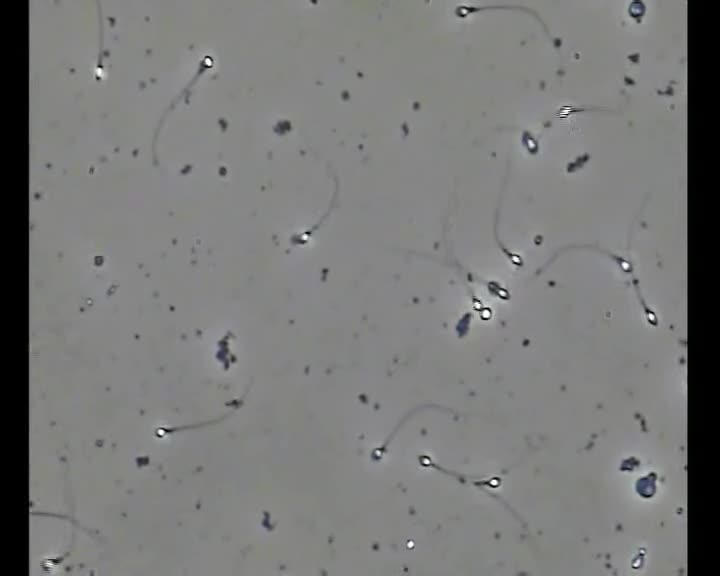spermhead: (635, 472, 657, 498), (487, 280, 509, 300), (521, 131, 538, 154), (628, 0, 646, 21), (456, 312, 471, 337), (556, 104, 582, 118), (619, 455, 640, 471), (631, 547, 646, 569), (291, 229, 311, 245), (455, 4, 476, 19), (41, 556, 60, 572), (615, 257, 632, 272), (153, 426, 172, 439), (645, 307, 657, 326), (200, 55, 215, 70), (507, 252, 523, 266), (224, 398, 244, 409), (94, 63, 106, 81), (371, 445, 385, 460), (478, 305, 492, 320), (418, 454, 433, 467), (485, 476, 501, 488), (471, 297, 483, 312), (407, 539, 415, 549), (29, 499, 33, 509)
